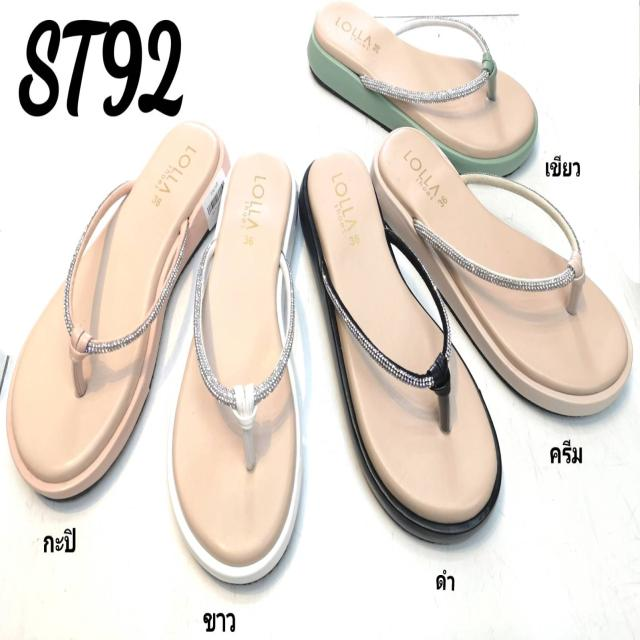black: (298, 153, 502, 548)
cream: (378, 123, 633, 430)
green: (306, 7, 540, 182)
kapi: (9, 122, 228, 502)
white: (166, 146, 306, 579)
